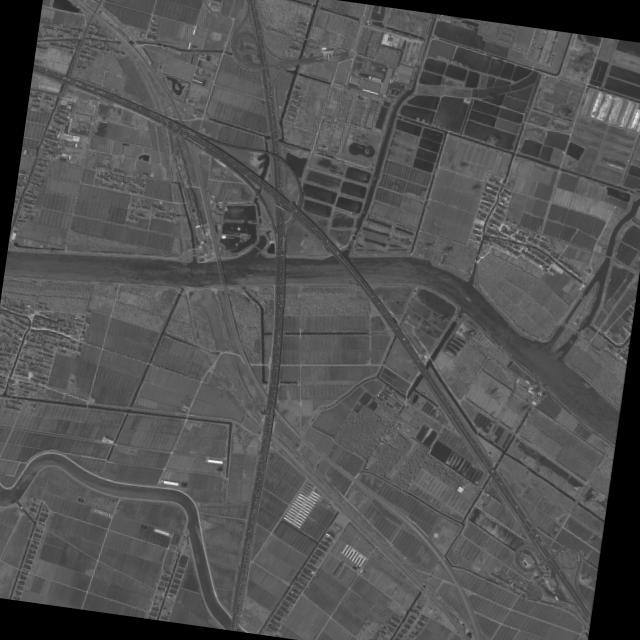ship: (463, 294, 472, 302), (581, 380, 590, 388), (180, 267, 190, 270), (246, 273, 255, 275)
